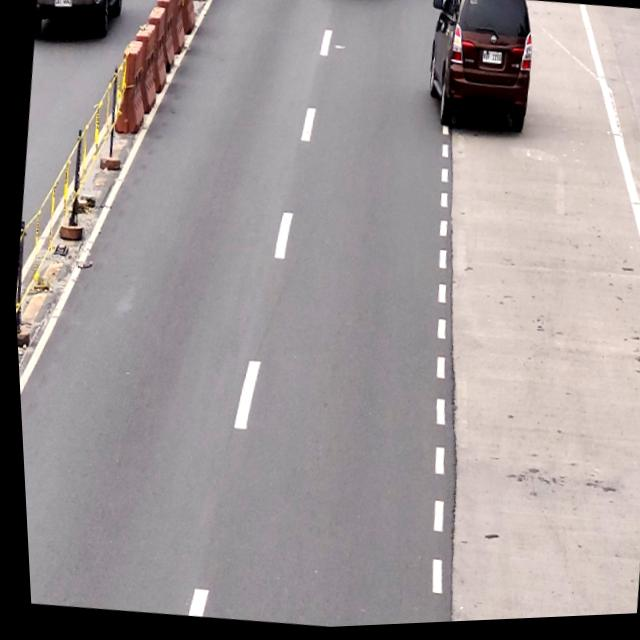Car: (415, 0, 542, 135)
License-Plate: (479, 52, 502, 71)
